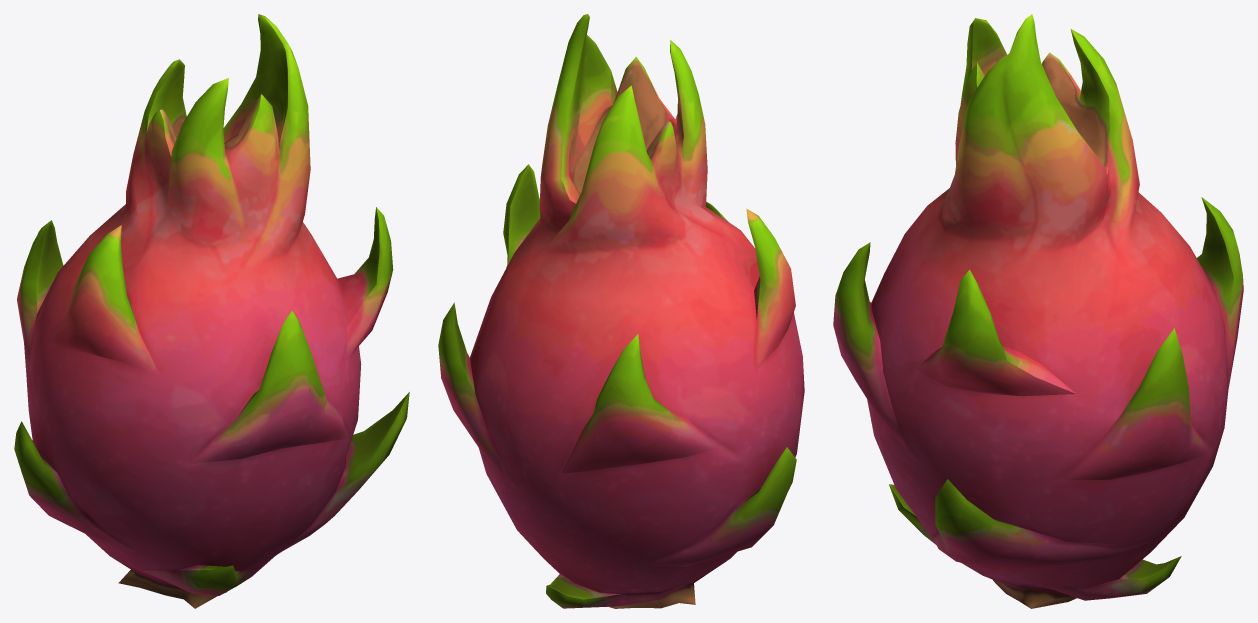
Rendered from SM_Pitaya.fbx.
3 views of the same model, side by side, from view 1: azimuth 30°, elevation 25°; view 2: azimuth 150°, elevation 25°; view 3: azimuth 270°, elevation 25° (orthographic). The views are drawn at different scales.
Visible parts, largest first — view 1: SM_Pitaya; view 2: SM_Pitaya; view 3: SM_Pitaya.
Boxes of the visible parts, x1,y1,x2,y2 form: SM_Pitaya: [14, 14, 409, 608]; SM_Pitaya: [438, 14, 804, 608]; SM_Pitaya: [833, 14, 1243, 608].
Size of the model in its own units: 15.03 by 24 by 14.81.
